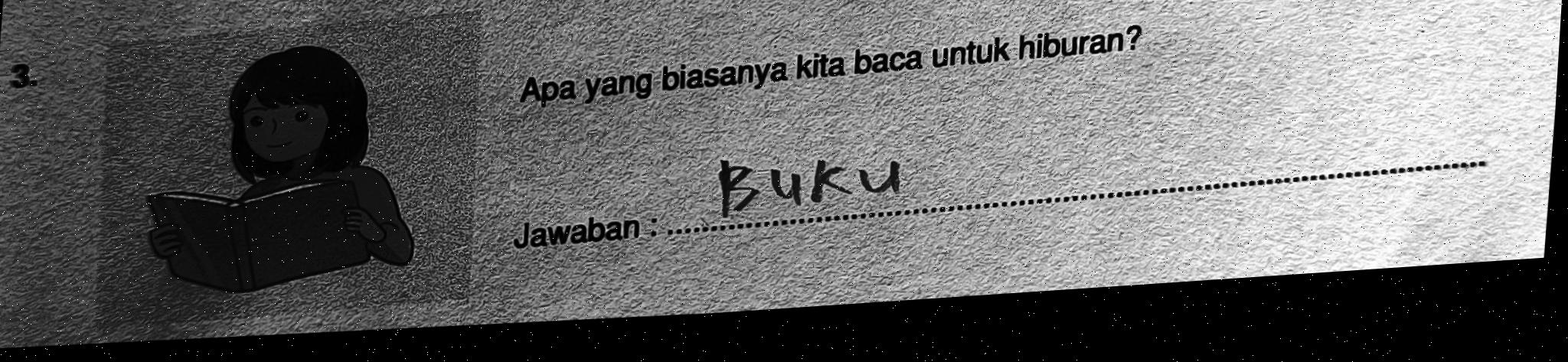jawaban: (713, 133, 908, 225)
